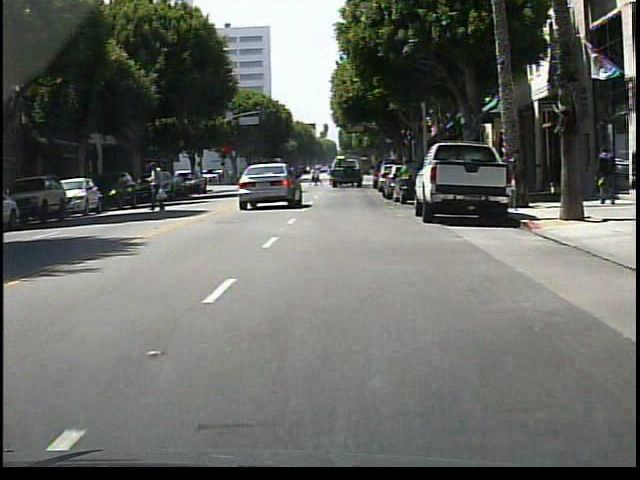person: (591, 144, 618, 205), (150, 157, 169, 211), (312, 165, 323, 187)
